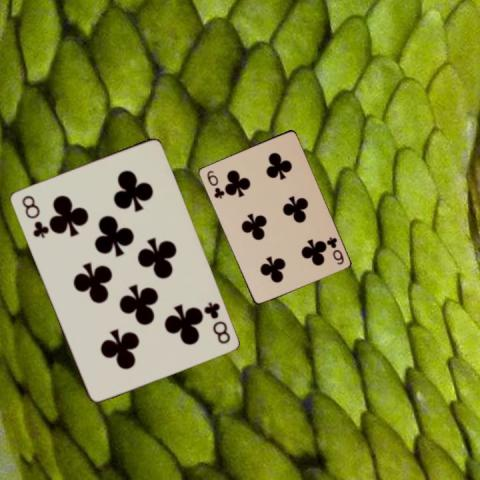6c: (204, 167, 226, 200), (323, 234, 345, 266)
8c: (18, 192, 49, 239), (200, 299, 231, 345)
